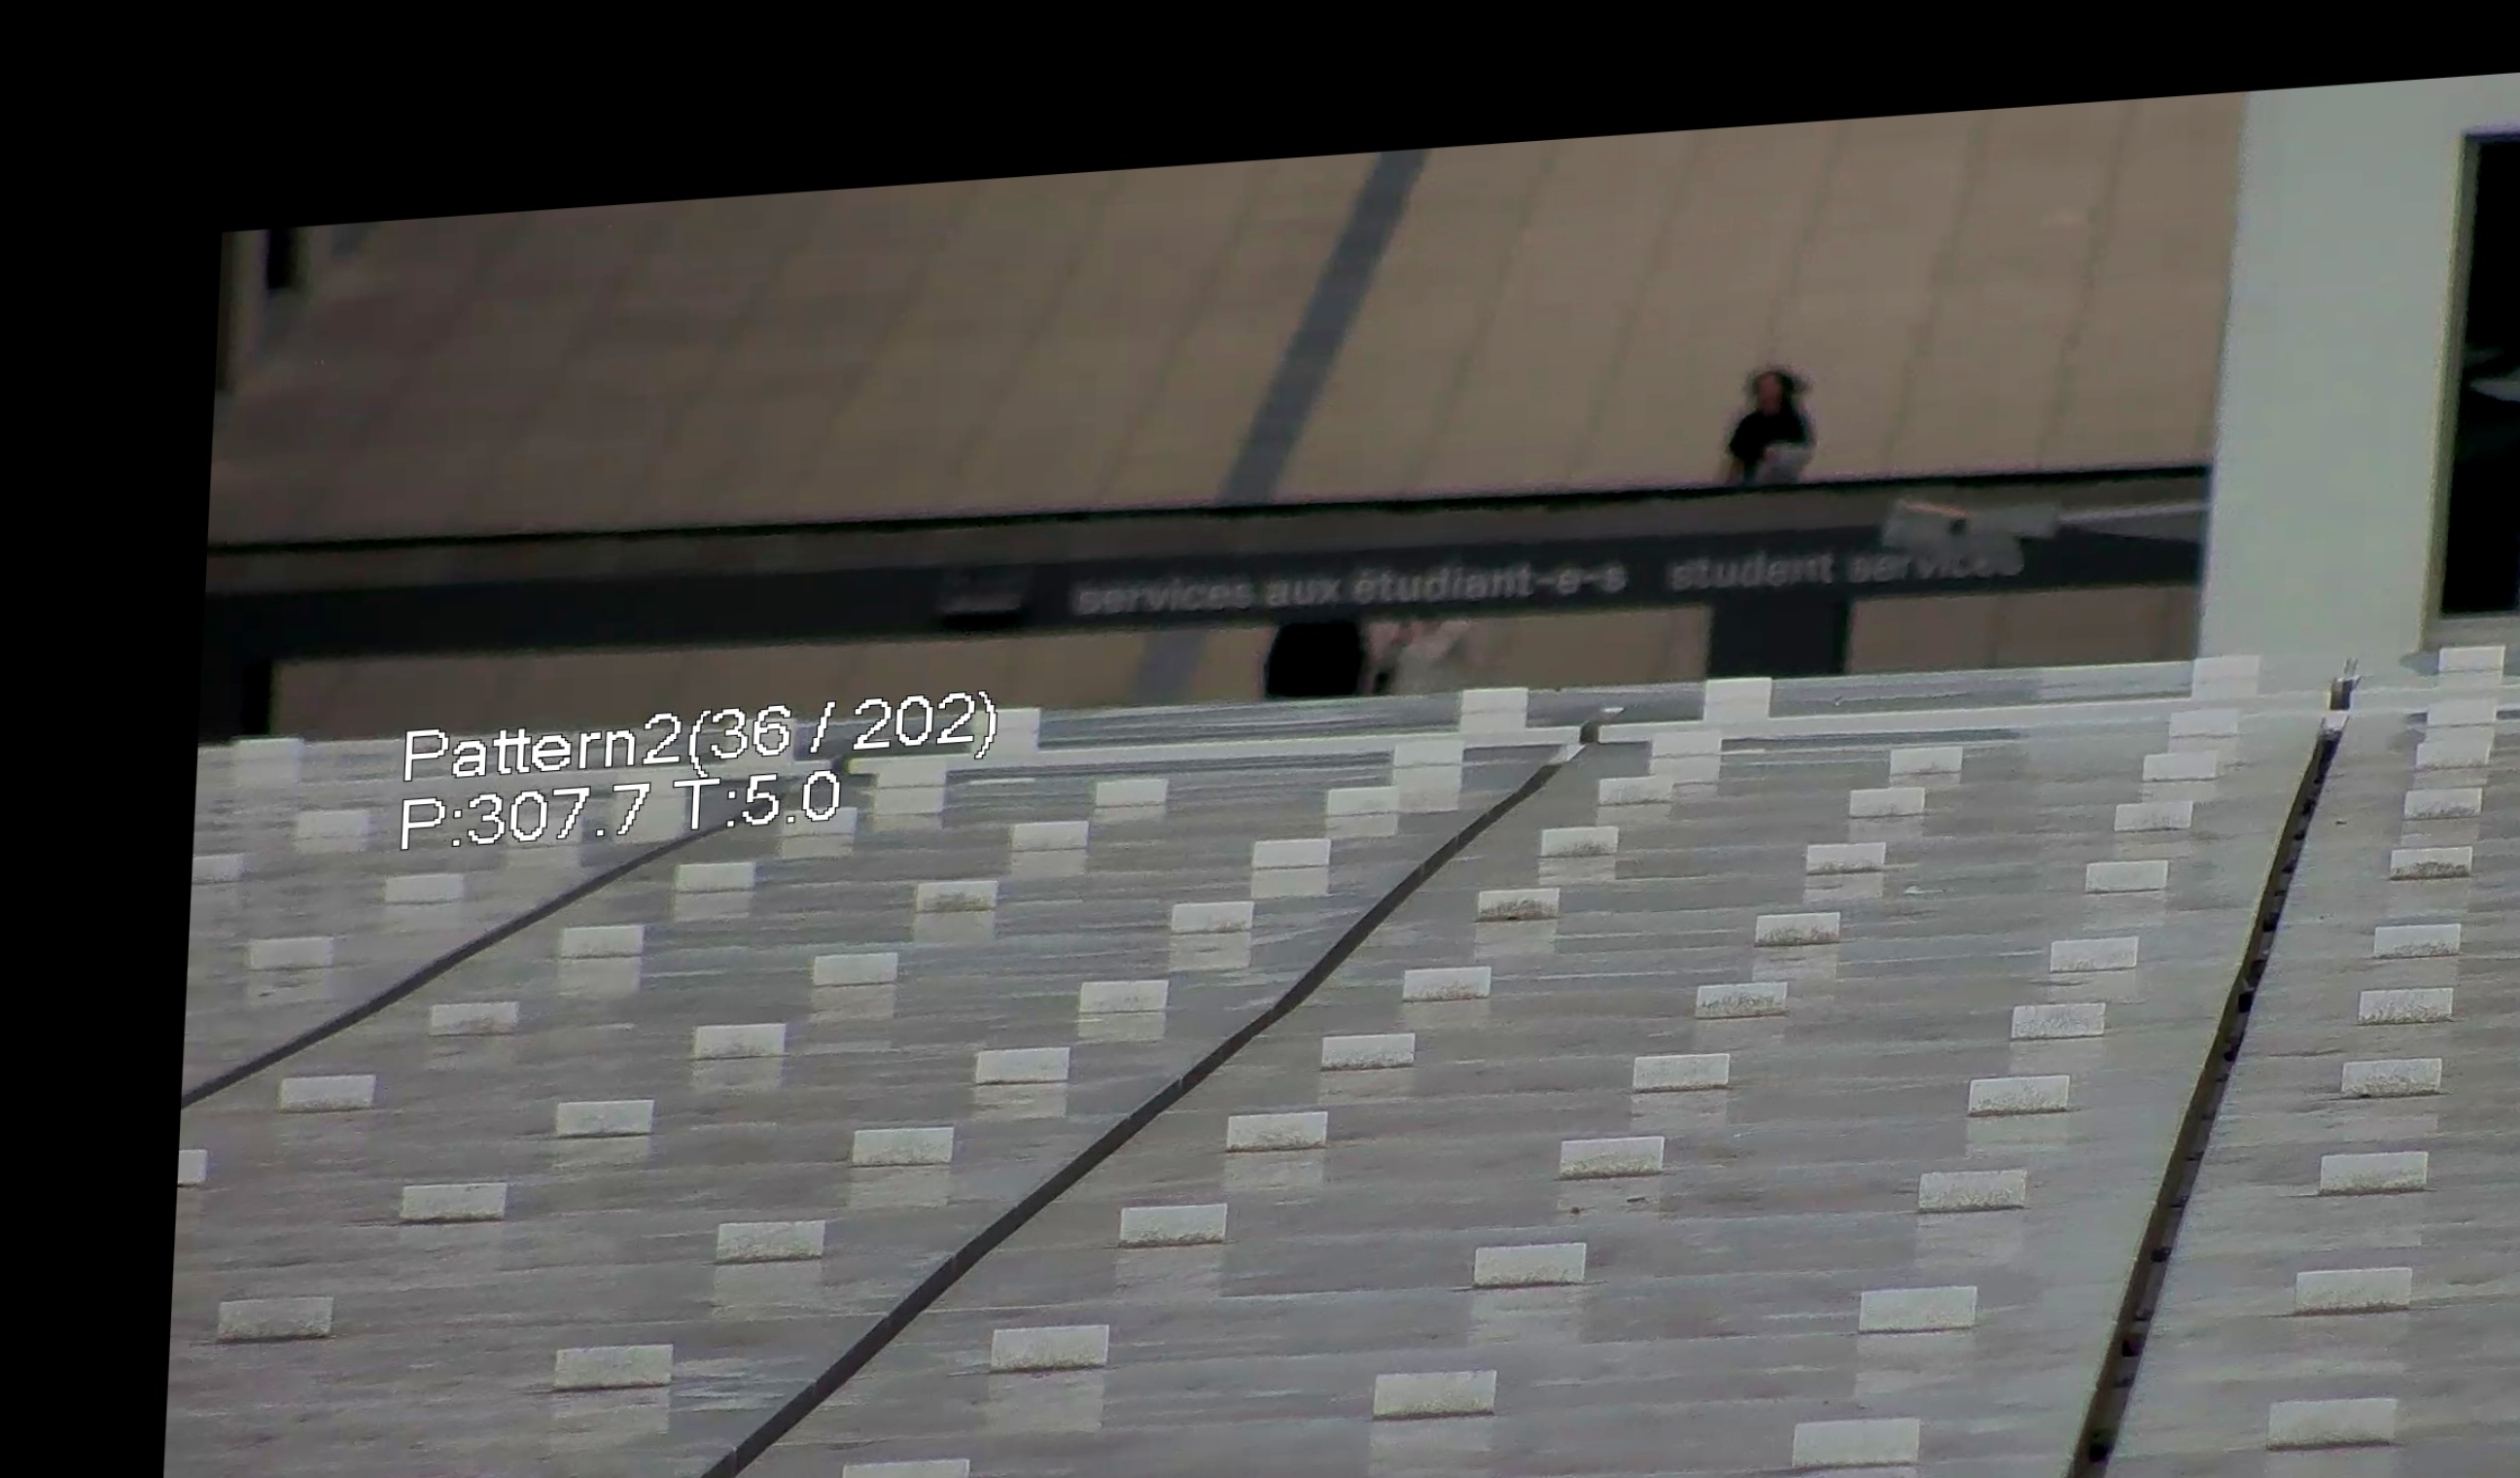Other: (1695, 347, 1834, 496)
